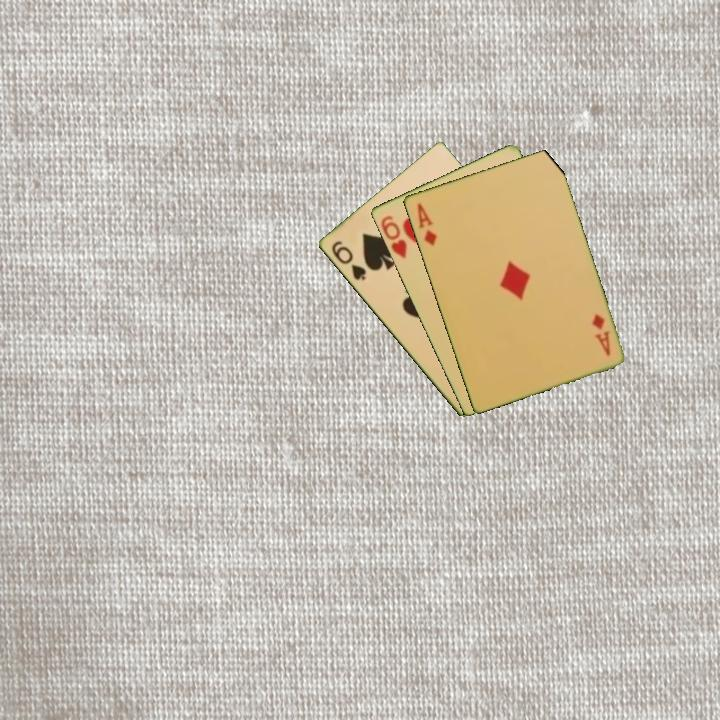6h: (377, 212, 409, 261)
6s: (327, 237, 369, 283)
Ad: (413, 199, 439, 249), (588, 310, 613, 359)
